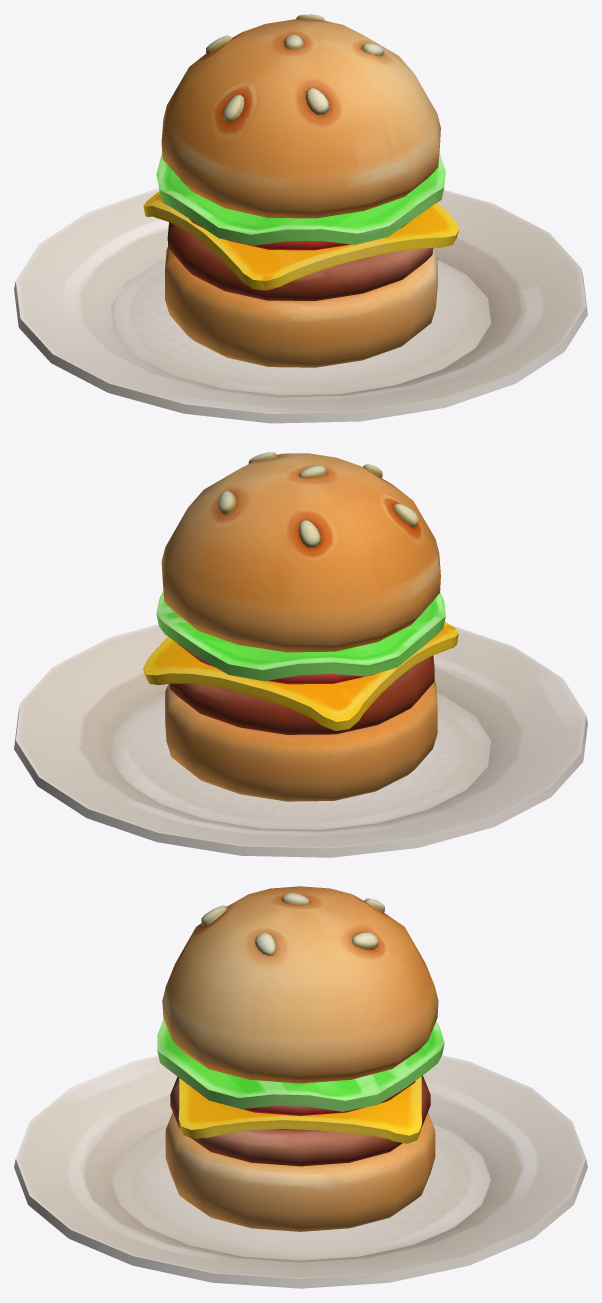
Rendered from Burger.fbx.
The picture shows the model from 3 angles, top to bottom: view 1: azimuth 30°, elevation 25°; view 2: azimuth 150°, elevation 25°; view 3: azimuth 270°, elevation 25°; orthographic projection.
Visible parts, largest first — view 1: Burger_bottom, Plate_small; view 2: Burger_bottom, Plate_small; view 3: Burger_bottom, Plate_small.
Boxes of the visible parts, x1,y1,x2,y2 form: Burger_bottom: (143,14,459,367); Plate_small: (14,188,587,423); Burger_bottom: (143,452,458,801); Plate_small: (14,624,587,857); Burger_bottom: (157,886,444,1231); Plate_small: (14,1055,587,1288).
Size of the model in its own units: 43.09 by 25.07 by 43.09.
Materials: 2 (2 with a texture image).
